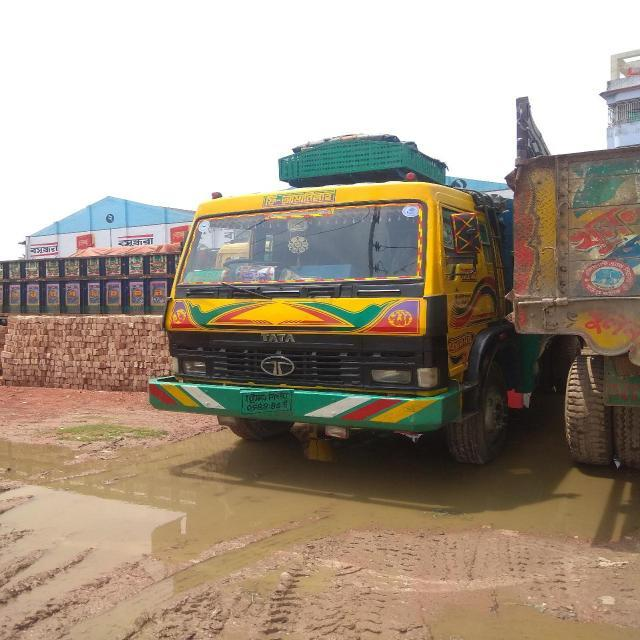numberplate: (240, 389, 294, 415)
